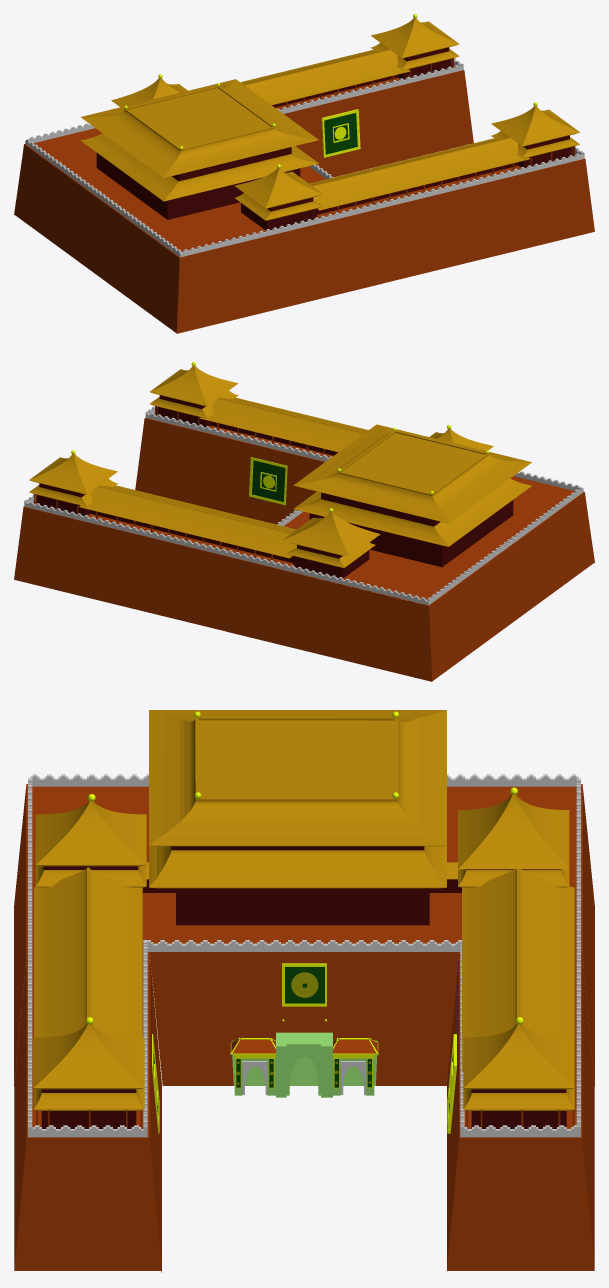
The model's file is basinngse.fbx.
The picture shows the model from 3 angles, top to bottom: view 1: azimuth 30°, elevation 25°; view 2: azimuth 150°, elevation 25°; view 3: azimuth 270°, elevation 25°; orthographic projection. The views are drawn at different scales.
Parts seen in each view (by area): view 1: palace; view 2: palace; view 3: palace.
Boxes of the visible parts, left/top/right/bottom form: palace: left=14, top=14, right=594, bottom=333; palace: left=14, top=362, right=594, bottom=681; palace: left=14, top=710, right=594, bottom=1272.
Size of the model in its own units: 12170 by 3834 by 8195.
